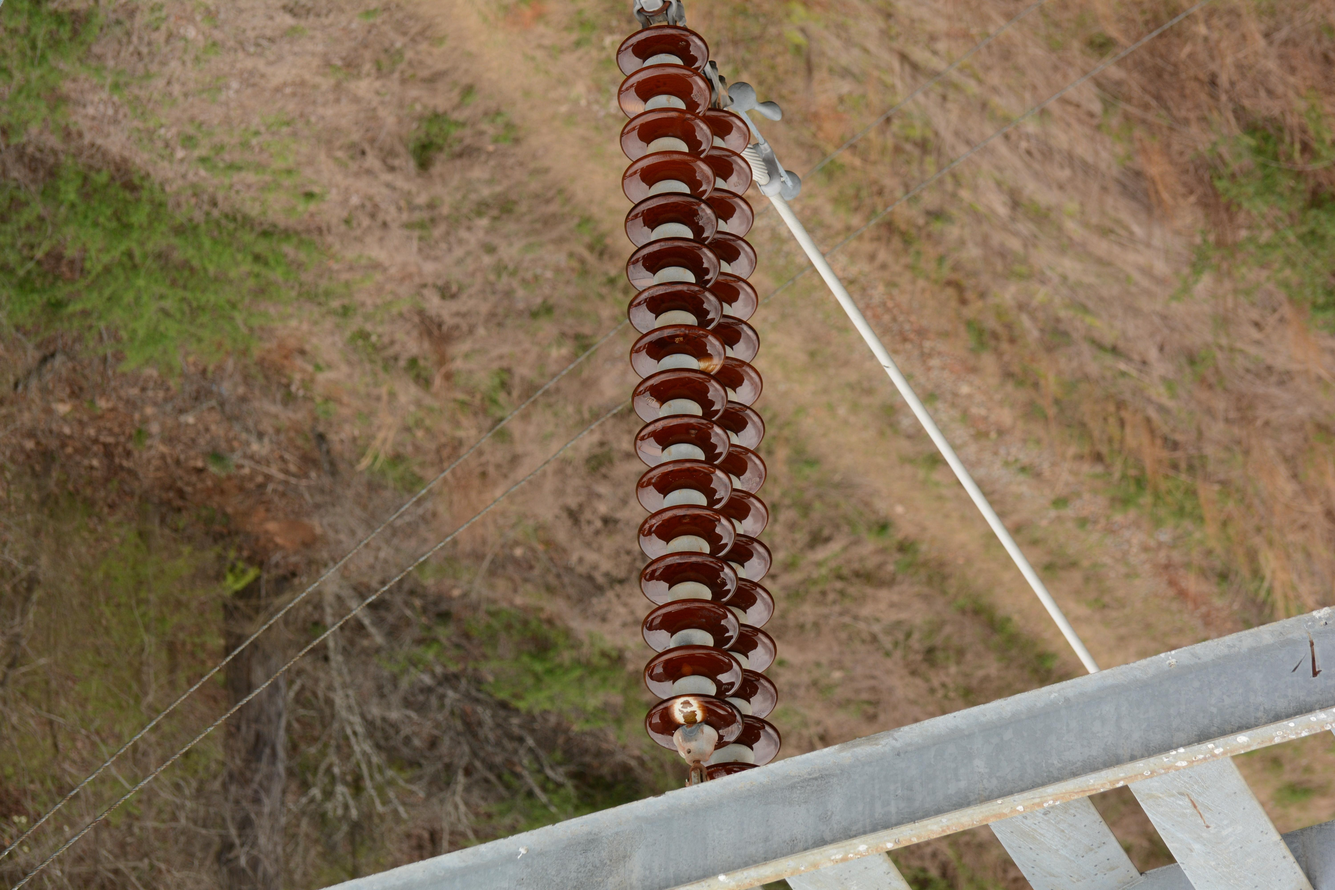Flashover: (669, 695, 708, 730), (617, 93, 651, 117), (696, 350, 722, 377)
hammer: (729, 81, 803, 198)
insulator: (614, 31, 744, 749), (712, 106, 780, 768)
